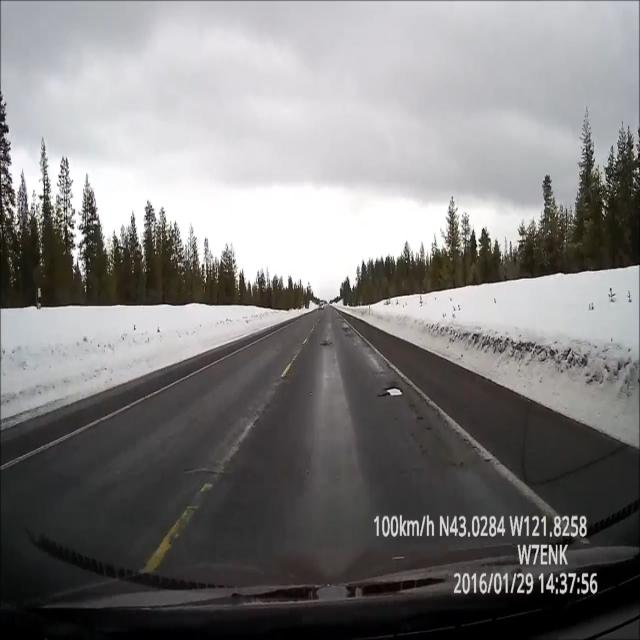Pothole: (381, 374, 410, 404)
